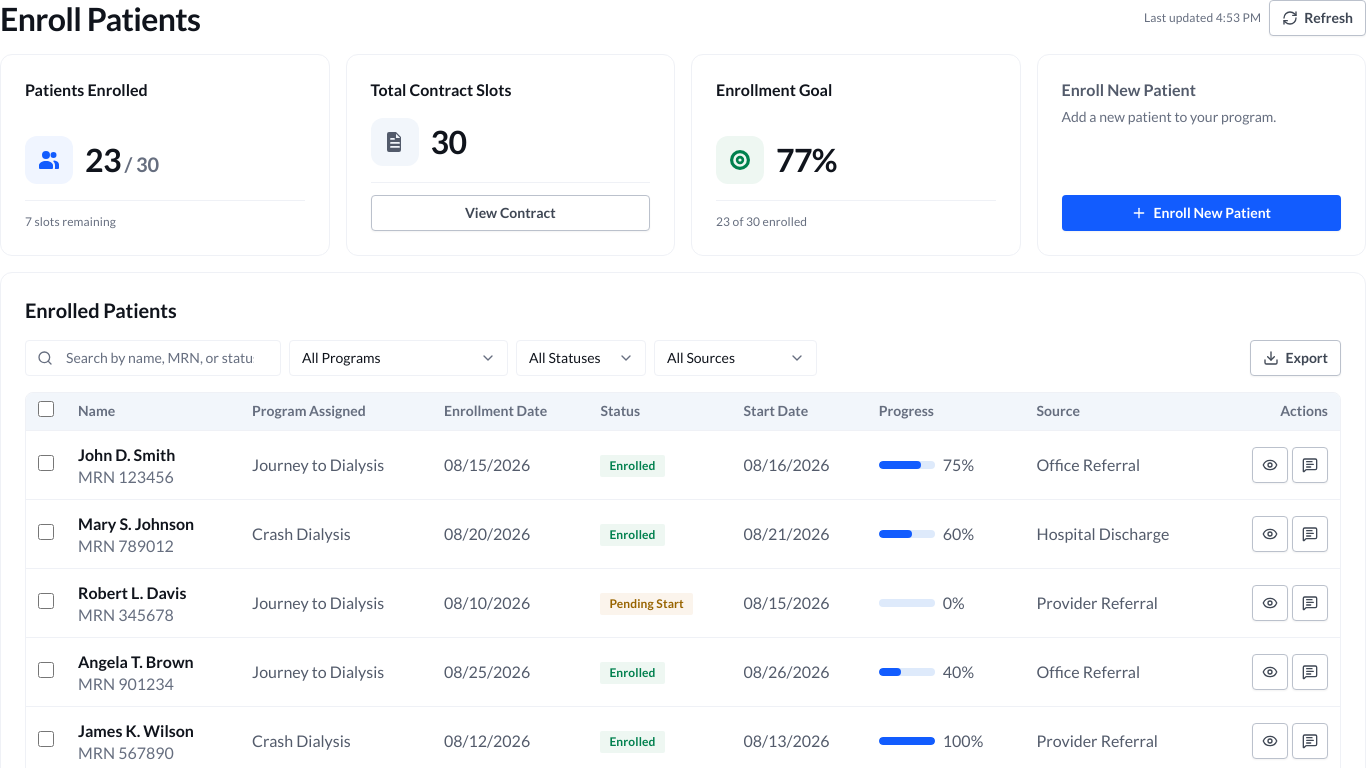
Test case: enrolling a patient › refuses an MRN that is already on the roster
This screenshot has width=1366, height=768.
Click the button "Enroll New Patient". click: (1201, 213)
box: [1062,195,1341,231]
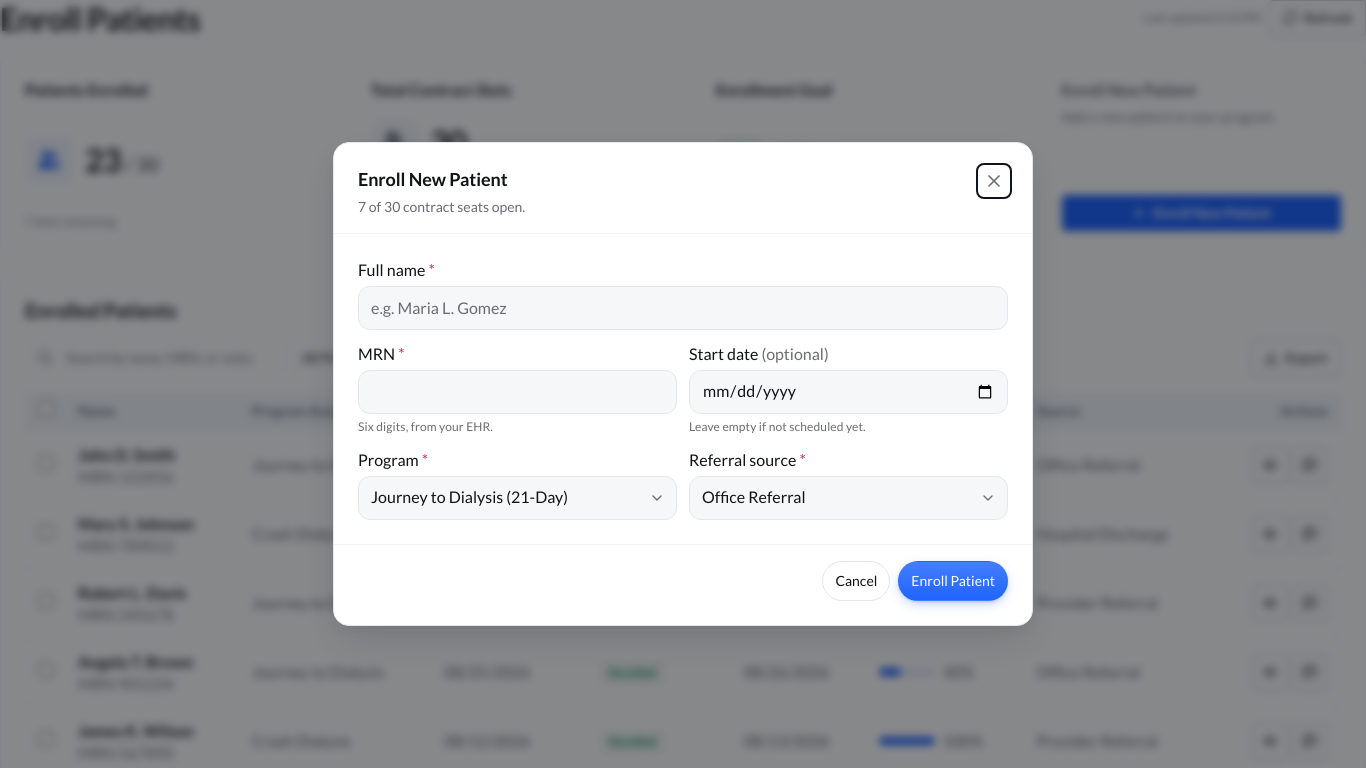
Type "Copy Of John" into the field labelled "Full name *". click: (683, 308)
box: [358,286,1008,330]
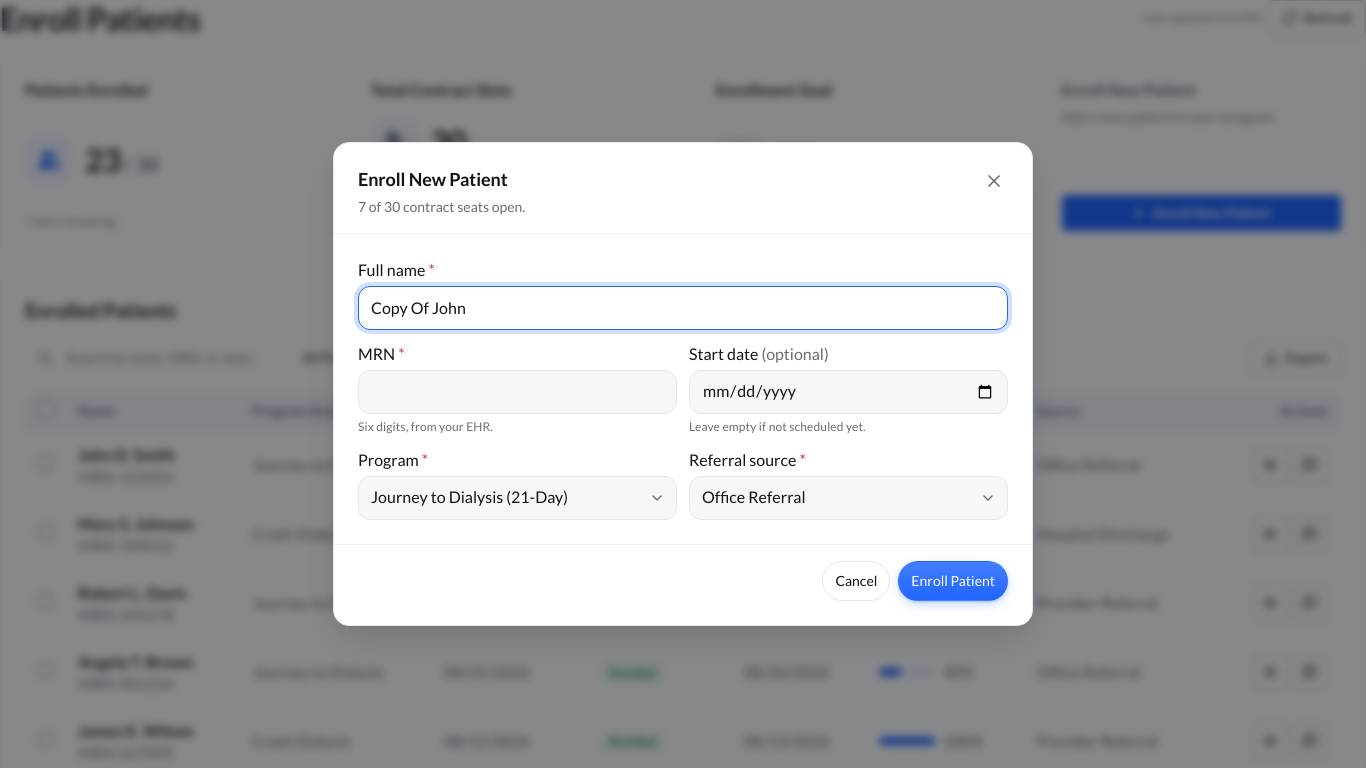
Type "123456" into the field labelled "MRN *". click: (518, 392)
box: [358,370,677,414]
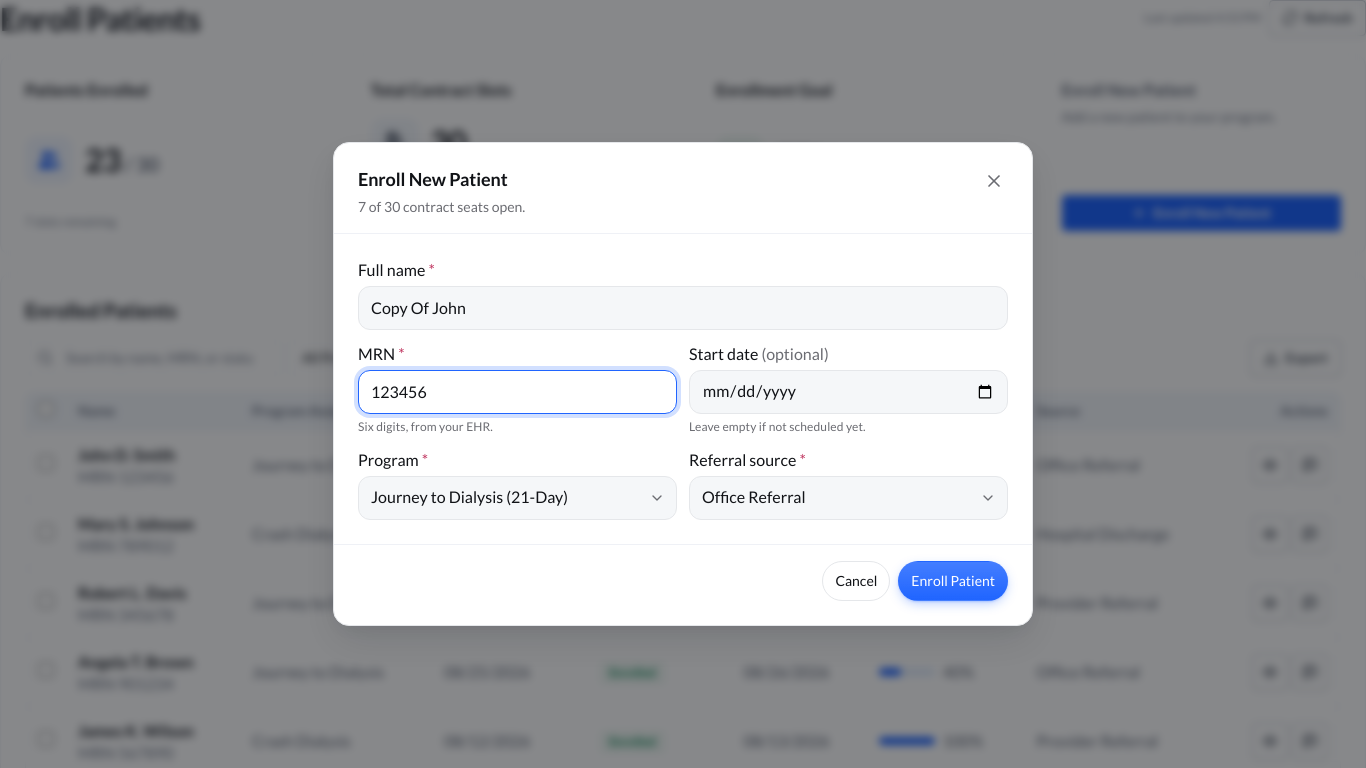
Click the button "Enroll Patient". click: (953, 581)
box: [898,561,1008,601]
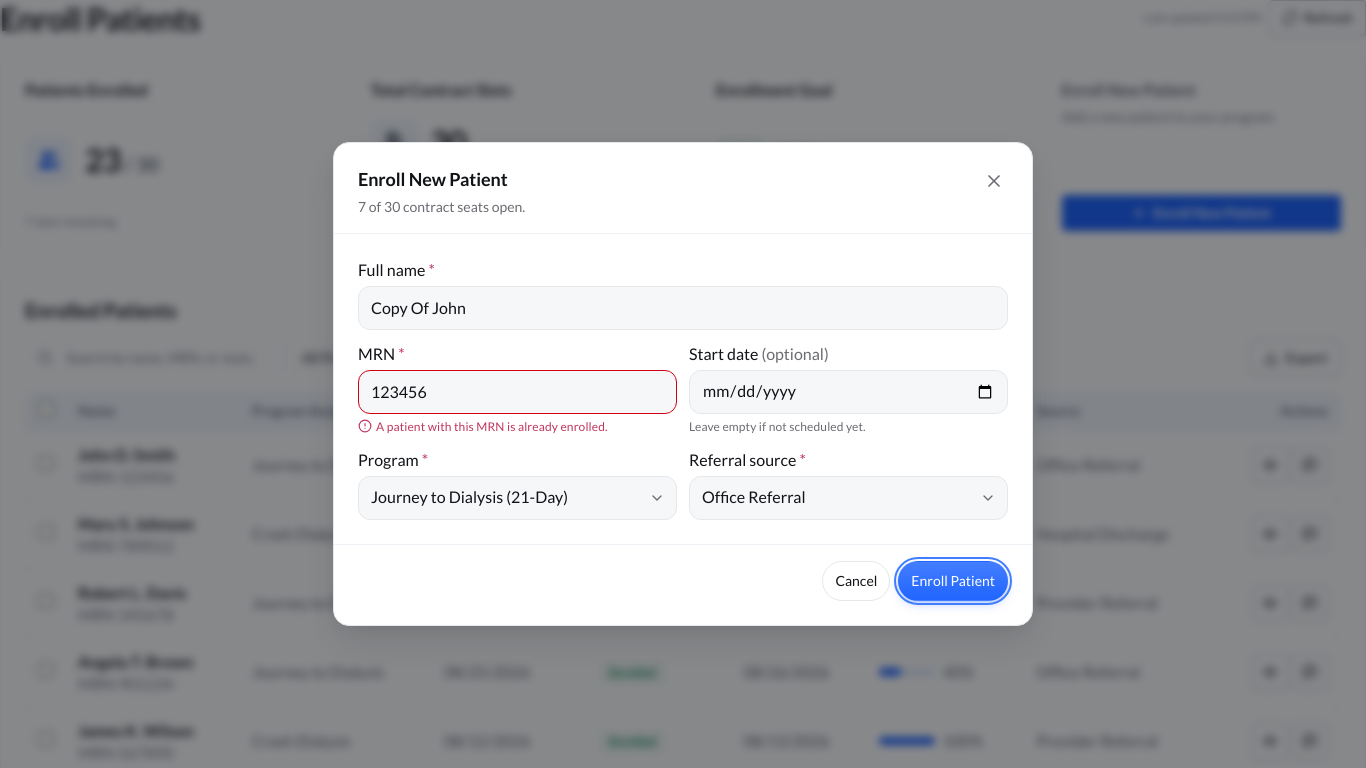
Expected: the text "A patient with this MRN is already enrolled." is shown, [358,419,608,434]
